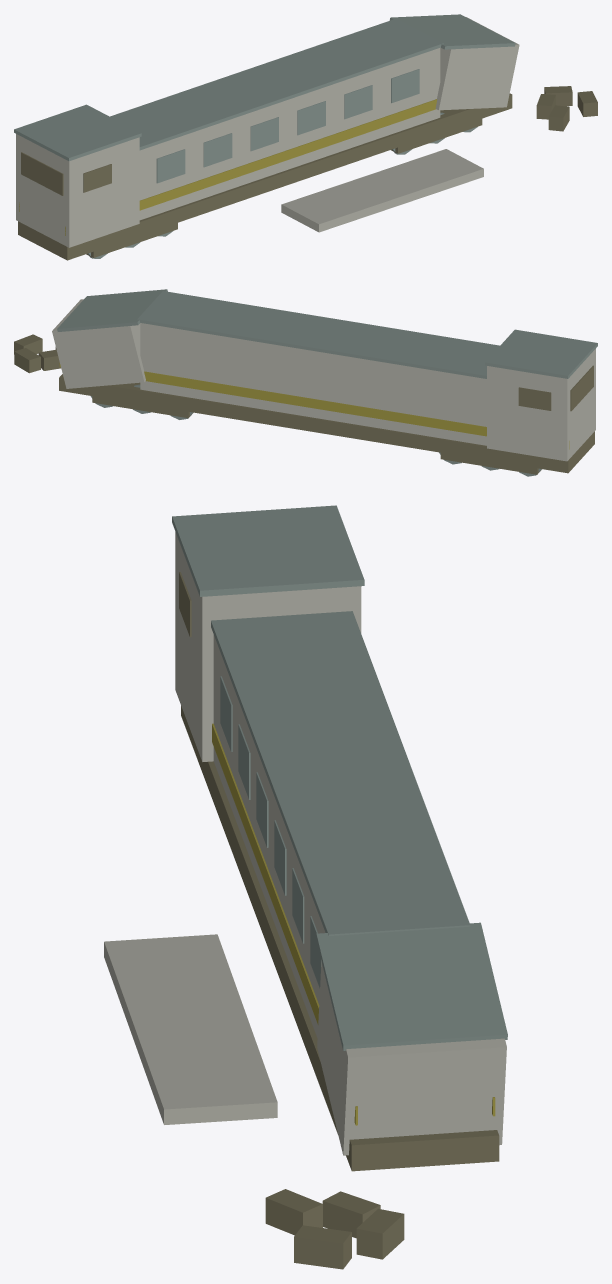
File: SM_Locomotora_v4_Aplastada_LOD0.fbx
The picture shows the model from 3 angles, top to bottom: view 1: azimuth 30°, elevation 25°; view 2: azimuth 150°, elevation 25°; view 3: azimuth 270°, elevation 25°; orthographic projection. The views are drawn at different scales.
Parts seen in each view (by area): view 1: SM_aqui_paso_algo_v4_LOD0; view 2: SM_aqui_paso_algo_v4_LOD0; view 3: SM_aqui_paso_algo_v4_LOD0.
Boxes of the visible parts, bbox=[...] form: SM_aqui_paso_algo_v4_LOD0: bbox=[14, 14, 597, 260]; SM_aqui_paso_algo_v4_LOD0: bbox=[14, 289, 597, 476]; SM_aqui_paso_algo_v4_LOD0: bbox=[104, 505, 507, 1269].
Size of the model in its own units: 22.22 by 4.32 by 7.03.
